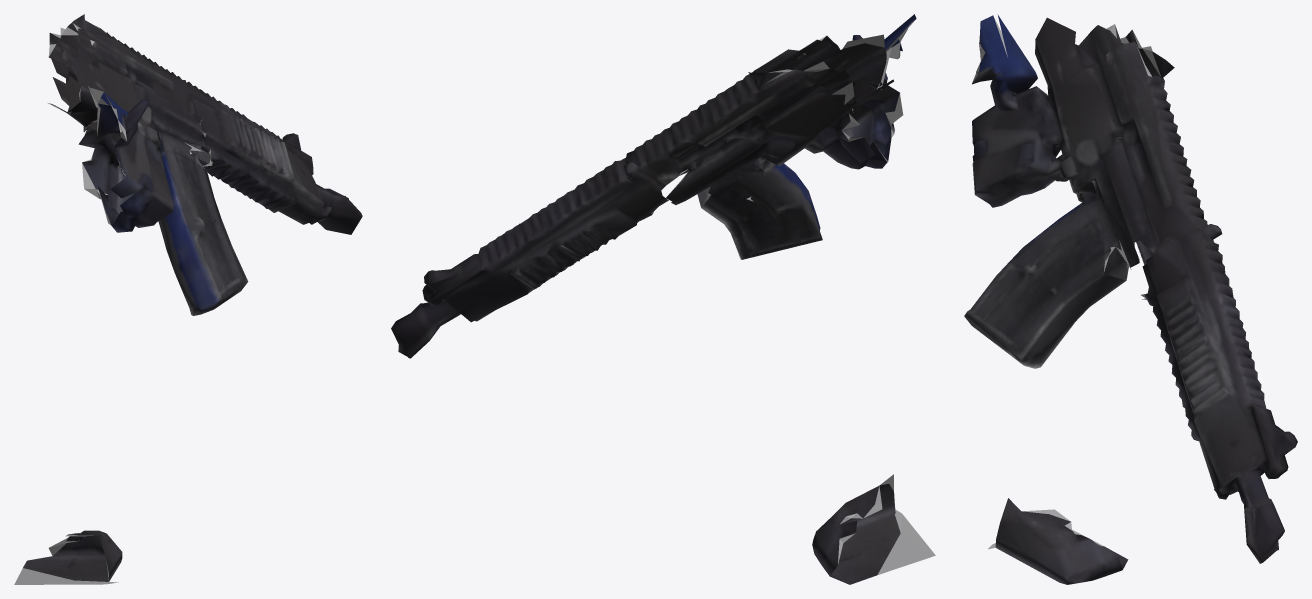
The model's file is blue_rifle.glb.
3 views of the same model, side by side, from view 1: azimuth 30°, elevation 25°; view 2: azimuth 150°, elevation 25°; view 3: azimuth 270°, elevation 25° (orthographic). The views are drawn at different scales.
Parts seen in each view (by area): view 1: blue_rifle; view 2: blue_rifle; view 3: blue_rifle.
Part boxes in pixels (box(x1,y1,x2,y2)): blue_rifle: box(14, 14, 362, 584); blue_rifle: box(391, 14, 935, 584); blue_rifle: box(964, 14, 1297, 584).
Size of the model in its own units: 2.52 by 2.9 by 1.58.
1 material, 1 textured.
